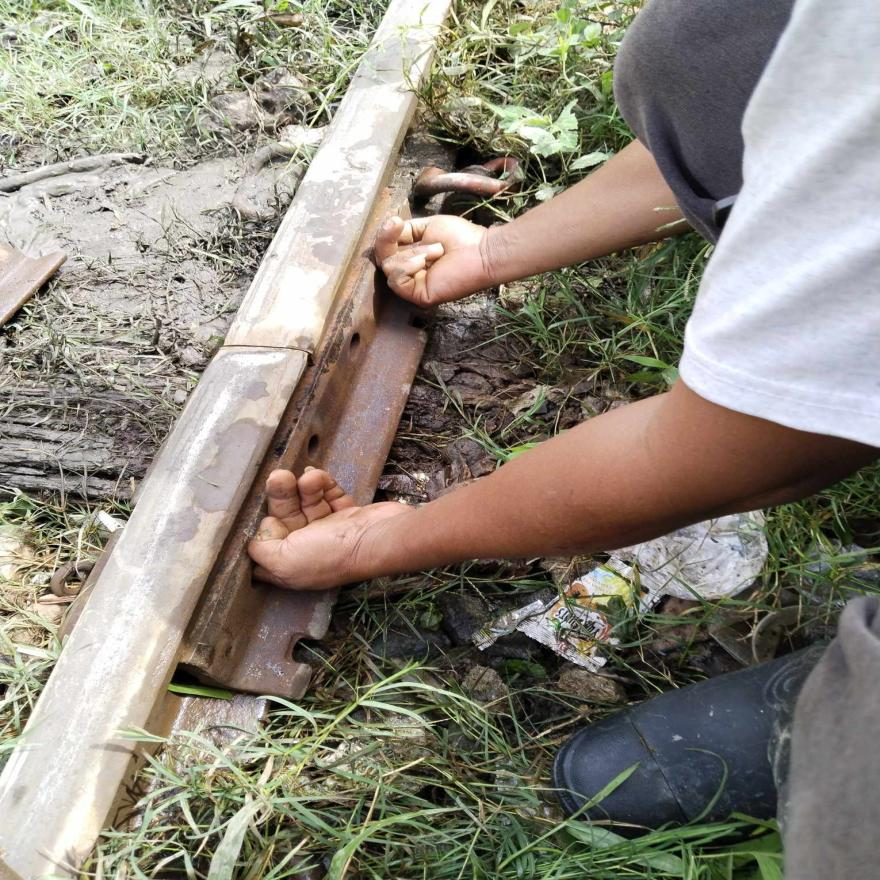railway-gap: (171, 292, 346, 403)
